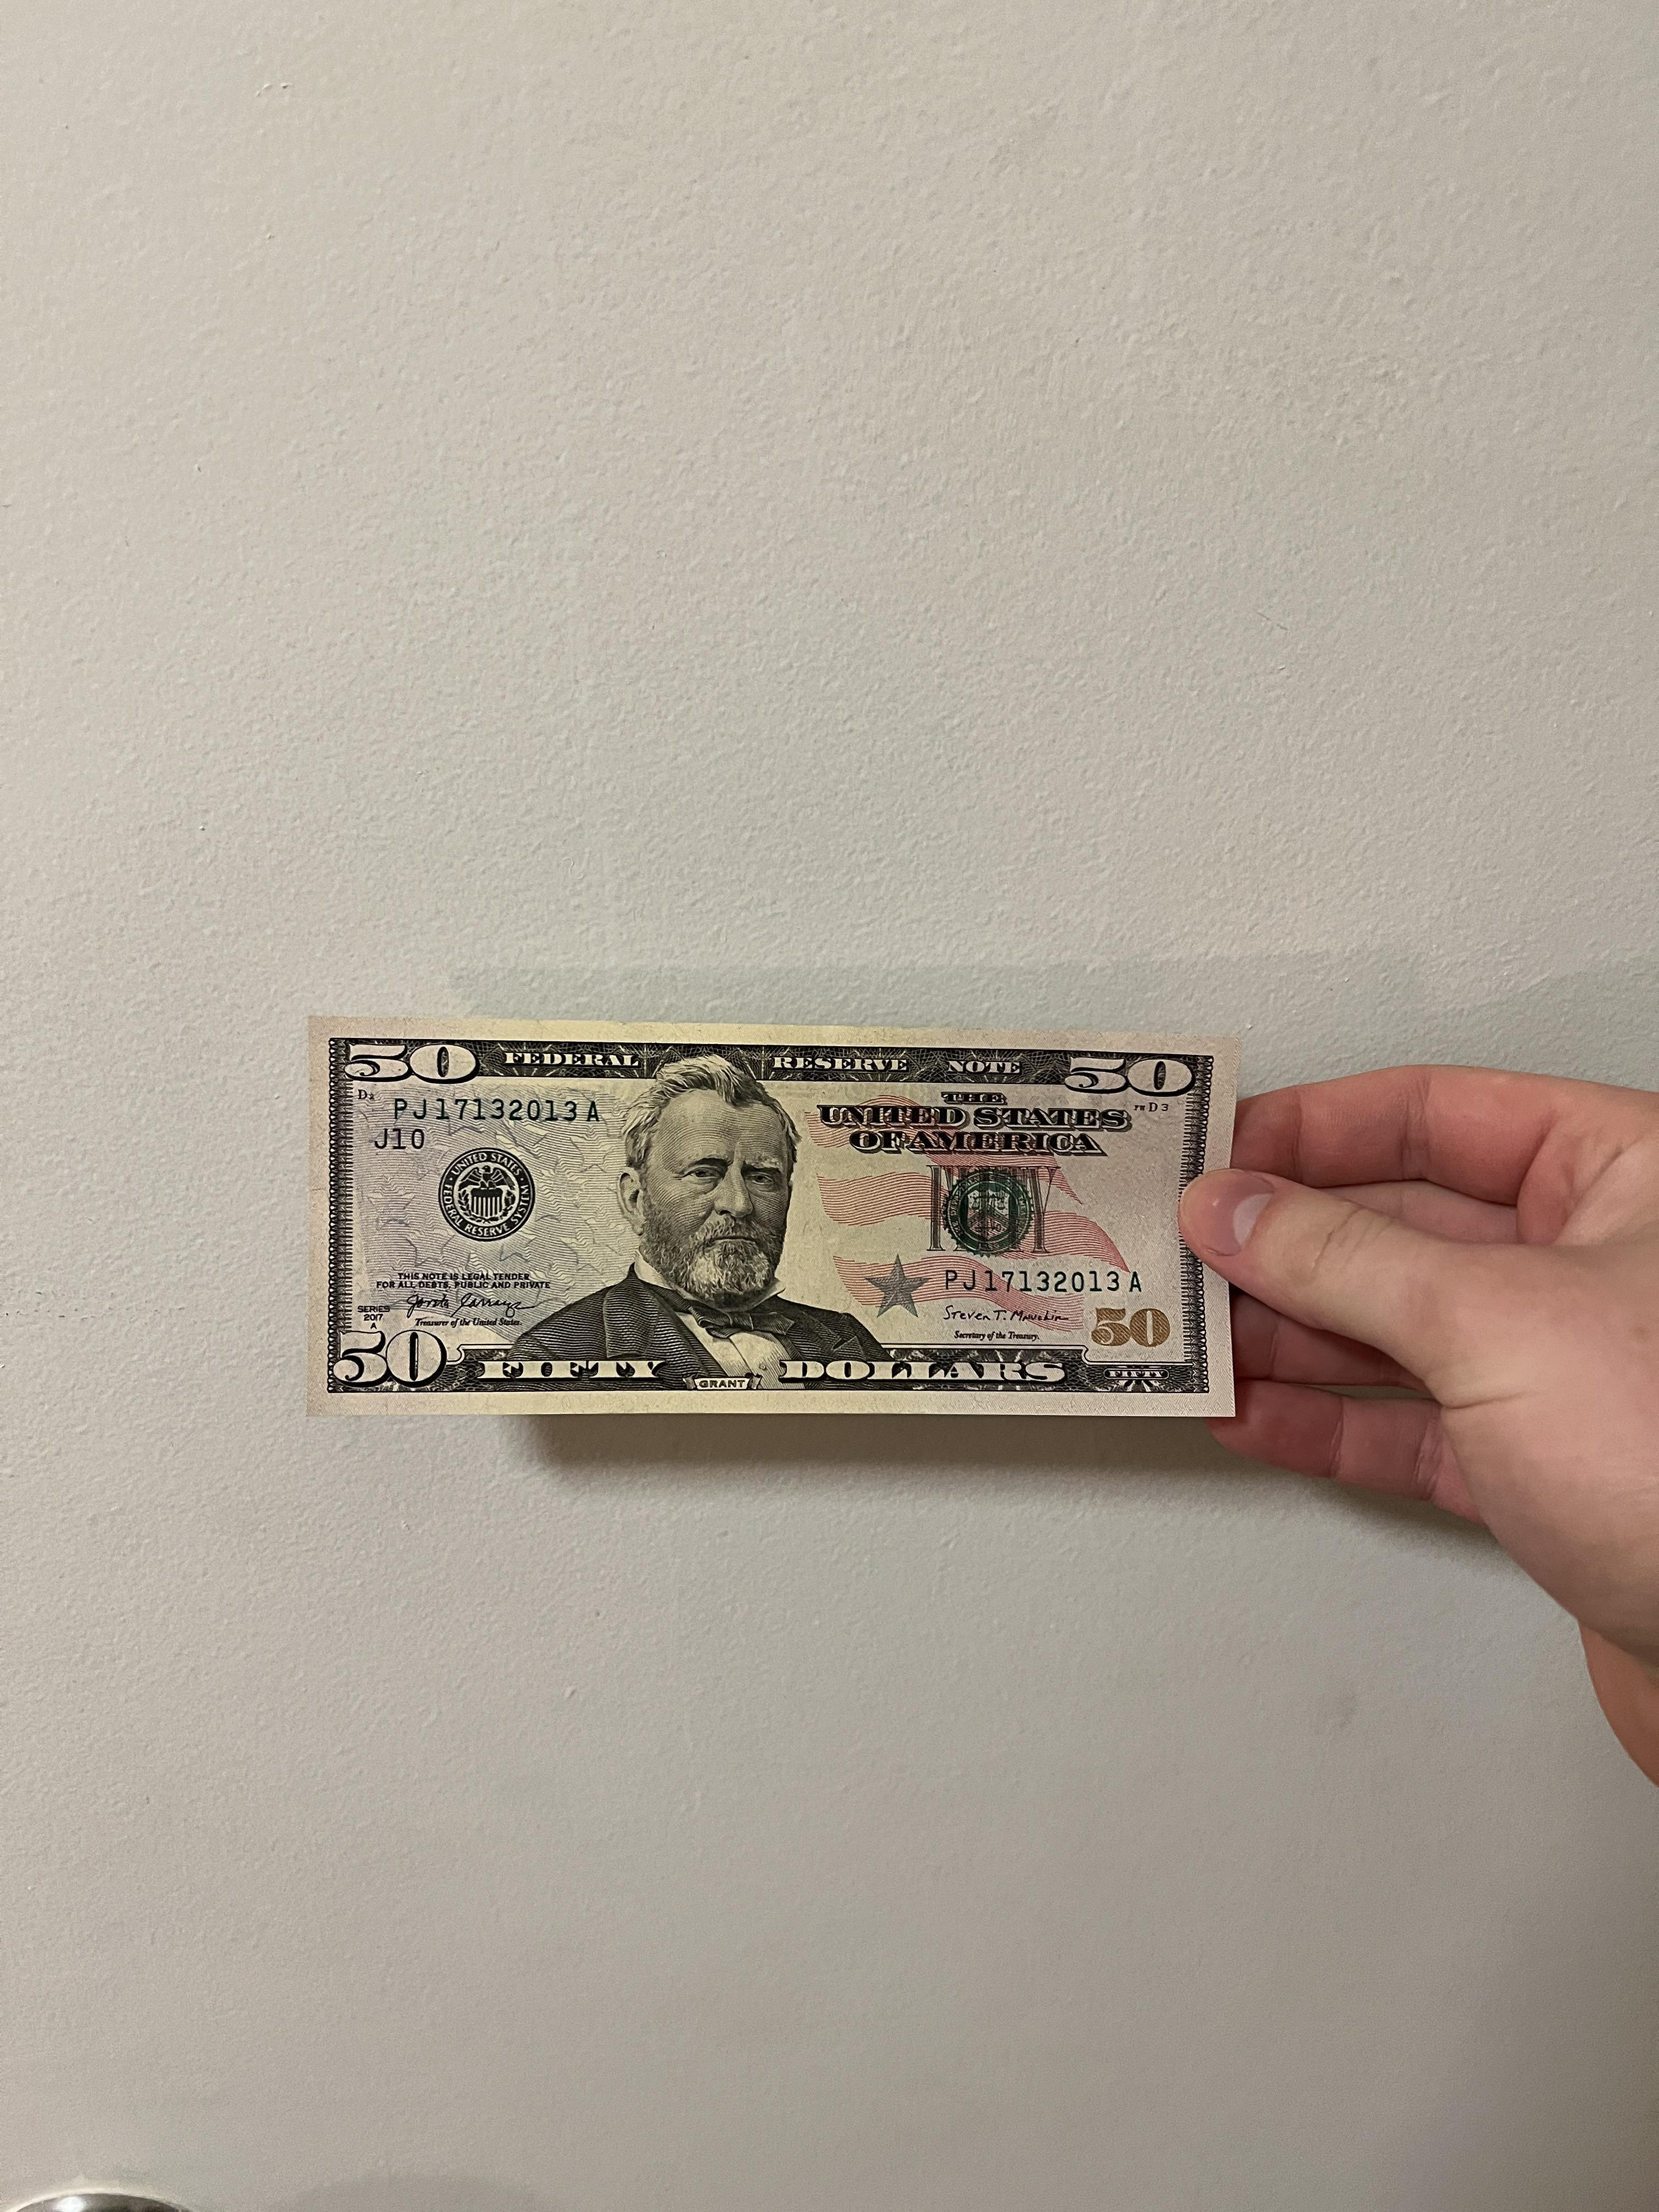FiftyBill: (301, 1019, 1249, 1437)
